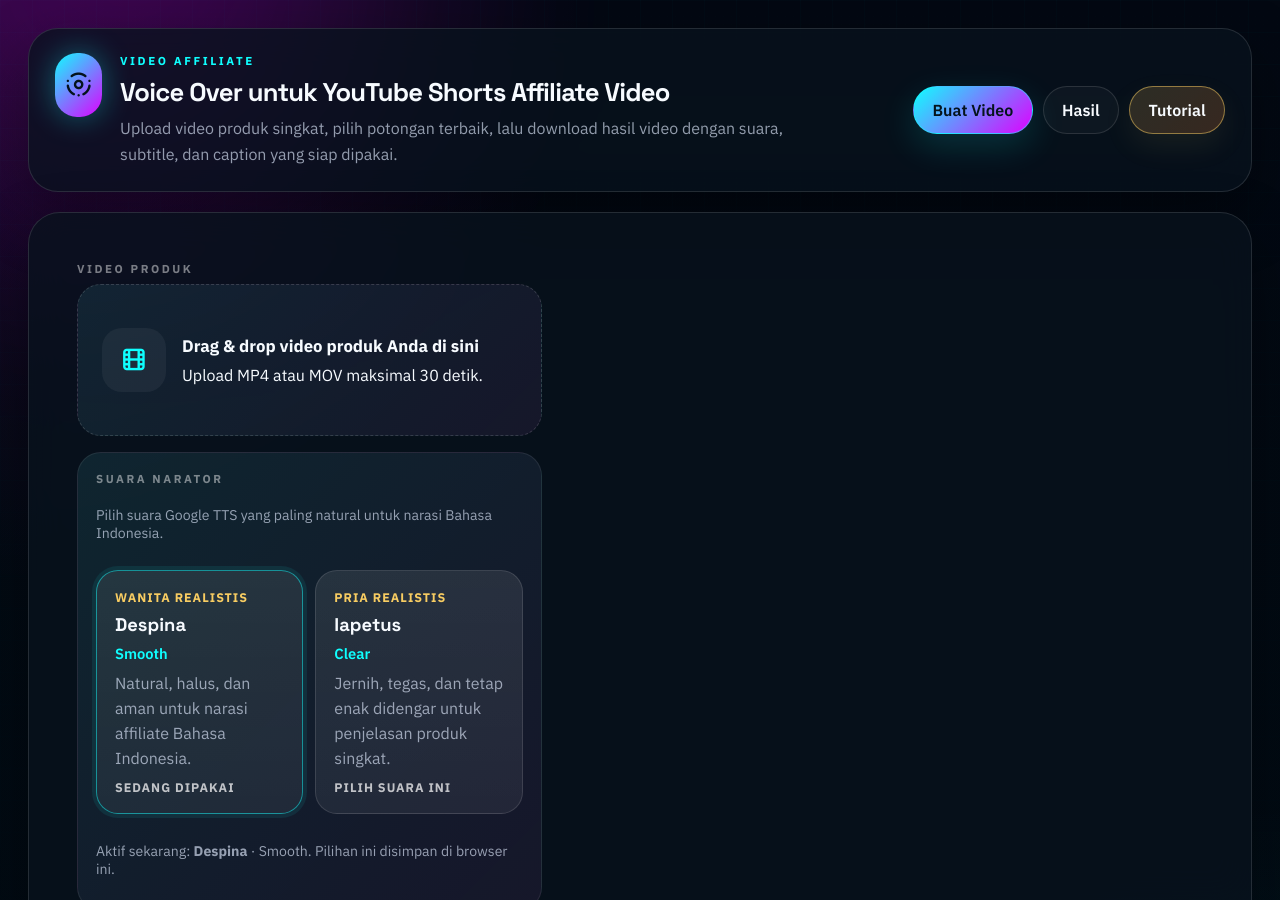
Test case: web smoke › opens the short tutorial page from the highlighted tutorial button
What coordinates should you click on to do the following:
click the button "Tutorial"
I would click on:
 (1177, 110)
Its box is left=1129, top=86, right=1225, bottom=134.
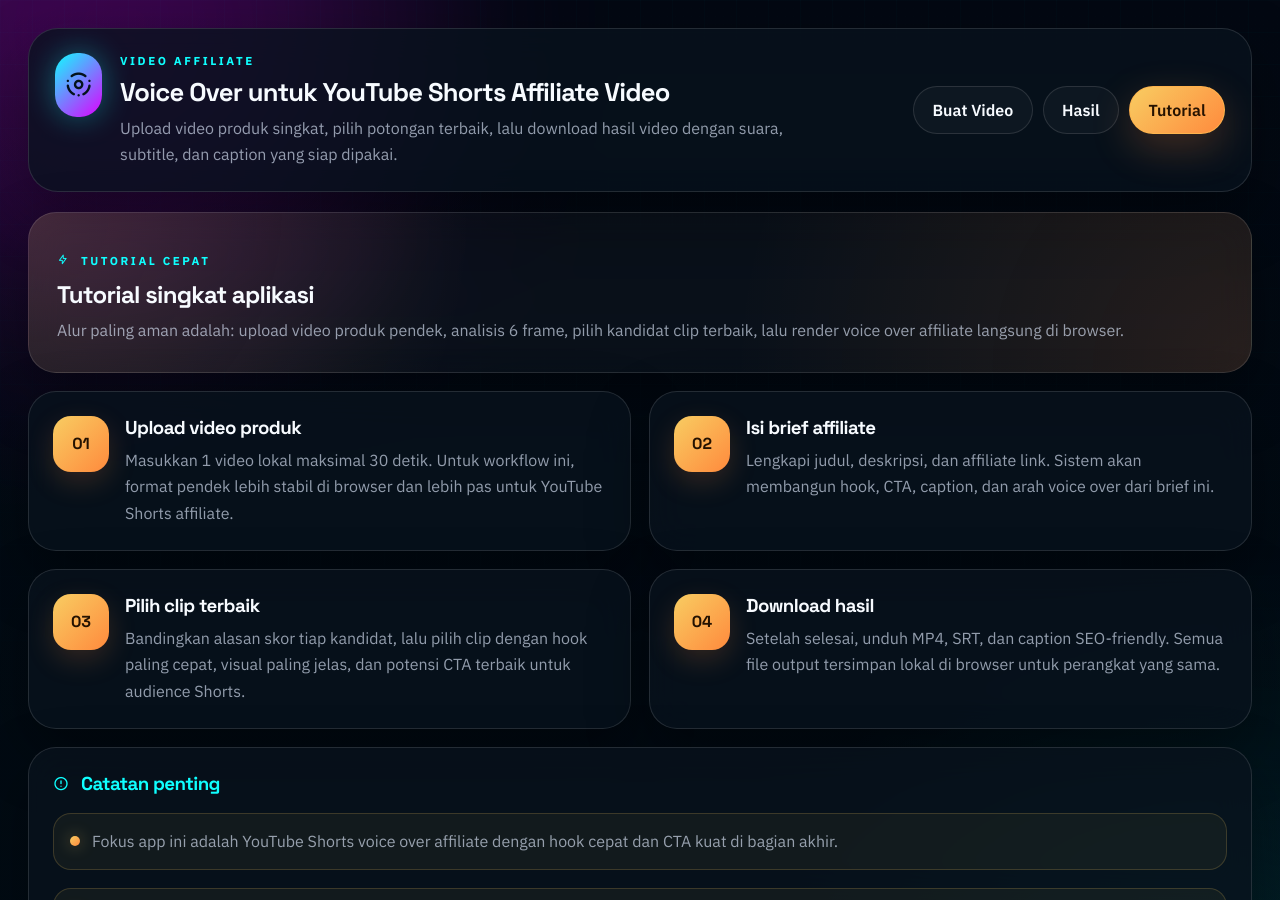
Now the heading "Tutorial singkat aplikasi" is shown, box left=57, top=279, right=314, bottom=310
Now the heading "Pilih clip terbaik" is shown, box left=125, top=594, right=260, bottom=617
Now the heading "Download hasil" is shown, box left=746, top=594, right=874, bottom=617
